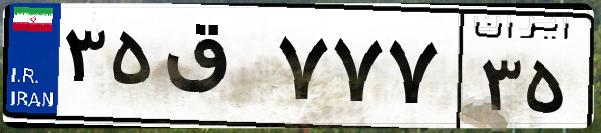3: (57, 26, 110, 100), (475, 38, 525, 113)
5: (525, 38, 570, 115), (110, 28, 158, 98)
7: (270, 28, 330, 110), (385, 28, 445, 110), (330, 28, 385, 110)
ق: (158, 20, 270, 120)
